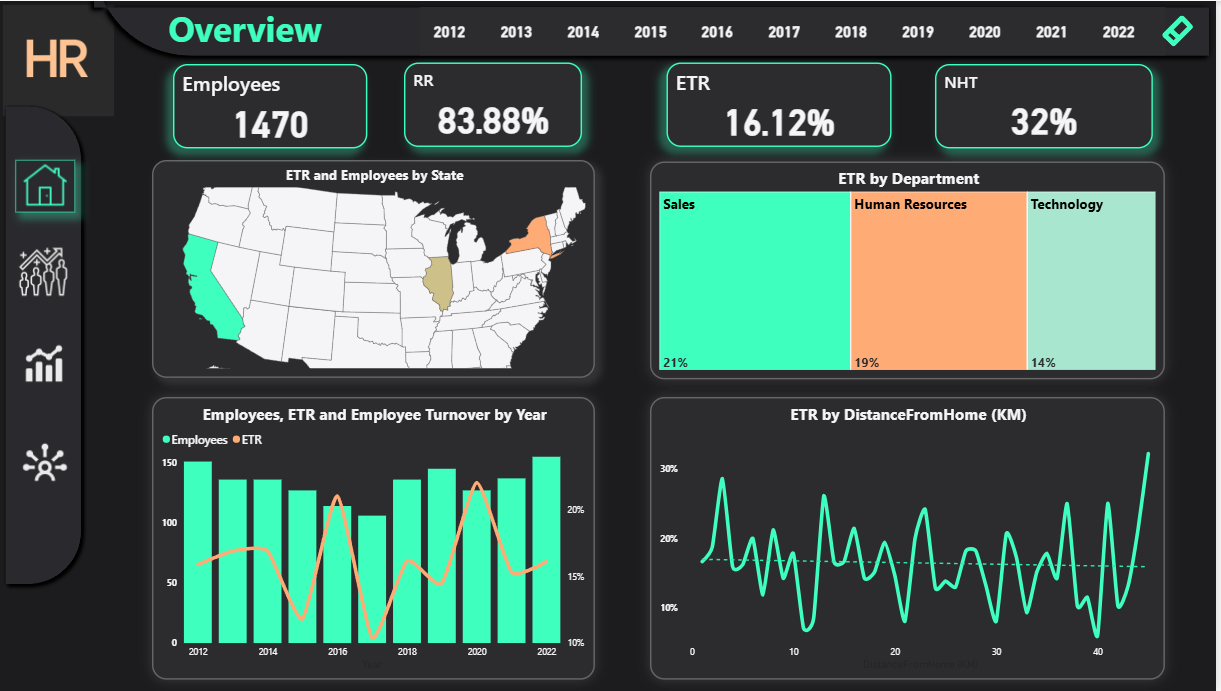

Layout of this report page (visuals, bound fields, positions):
{"tool":"powerbi","page":{"name":"Overview","canvas":[1690,960],"ordinal":0},"visuals":[{"type":"image","box":[0,0,165,165],"z":0},{"type":"lineStackedColumnComboChart","fields":{"Y":["Measure.Employees"],"Category":["DimDate.Date.Variation.Date Hierarchy.Year"],"Y2":["Measure.ERT"]},"box":[212.5,550,615,392.5],"z":1000},{"type":"shapeMap","fields":{"Category":["DimEmployee.State"],"Value":["Measure.ETR"]},"box":[212.5,220,615,302.5],"z":2000},{"type":"treemap","fields":{"Group":["DimEmployee.Department"],"Values":["Measure.ETR"]},"box":[905,222.5,715,302.5],"z":3000},{"type":"areaChart","fields":{"Category":["DimEmployee.DistanceFromHome (KM)"],"Y":["Measure.ETR"]},"box":[905,550,715,392.5],"z":4000},{"type":"card","title":"ETR","fields":{"Values":["Measure.ETR"]},"box":[927.5,85,312.5,117.5],"z":5000},{"type":"shape","box":[122.5,0,1567.5,85],"z":5500,"group":"g1"},{"type":"group","id":"g1","title":"Group 1","box":[122.5,0,1567.5,85],"z":6000},{"type":"textbox","box":[126.6,0,429.2,85],"z":6000,"group":"g1"},{"type":"shape","box":[0,137.5,123,681.5],"z":7000},{"type":"card","title":"NHT","fields":{"Values":["Measure.NHT"]},"box":[1300,87.5,302.5,117.5],"z":8000},{"type":"card","title":"Employees","fields":{"Values":["Measure.Employees"]},"box":[242.5,87.5,270,117.5],"z":9000},{"type":"card","title":"RR","fields":{"Values":["Measure.RR"]},"box":[562.5,85,247.5,117.5],"z":10000},{"type":"advancedSlicerVisual","fields":{"Values":["DimDate.Date.Variation.Date Hierarchy.Year"]},"box":[585,7.5,1035,67.5],"z":11000},{"type":"actionButton","box":[1602.5,17.5,70,50],"z":12000},{"type":"group","id":"g2","title":"Group 2","box":[22.9,220.9,82.5,72.5],"z":13000},{"type":"actionButton","box":[22.9,220.9,82.5,72.5],"z":13000,"group":"g2"},{"type":"image","box":[20.8,589.8,85.4,102.1],"z":14000},{"type":"image","box":[22.9,458.3,79.2,89.6],"z":15000},{"type":"image","box":[20.8,335.2,81.3,81.3],"z":16000}]}

Visuals, with their boxes in screenshot pixels (x1, y1, x2, y2), scaled from the page's 1690x960 canvas onto the 1221x691 screenshot:
image: (left=0, top=0, right=119, bottom=119)
lineStackedColumnComboChart - Measure.Employees x DimDate.Date.Variation.Date Hierarchy.Year: (left=154, top=396, right=598, bottom=678)
shapeMap - DimEmployee.State x Measure.ETR: (left=154, top=158, right=598, bottom=376)
treemap - DimEmployee.Department x Measure.ETR: (left=654, top=160, right=1170, bottom=378)
areaChart - DimEmployee.DistanceFromHome (KM) x Measure.ETR: (left=654, top=396, right=1170, bottom=678)
"ETR" card: (left=670, top=61, right=896, bottom=146)
shape: (left=89, top=0, right=1220, bottom=61)
"Group 1" group: (left=89, top=0, right=1220, bottom=61)
textbox: (left=91, top=0, right=402, bottom=61)
shape: (left=0, top=99, right=89, bottom=590)
"NHT" card: (left=939, top=63, right=1158, bottom=148)
"Employees" card: (left=175, top=63, right=370, bottom=148)
"RR" card: (left=406, top=61, right=585, bottom=146)
advancedSlicerVisual - DimDate.Date.Variation.Date Hierarchy.Year: (left=423, top=5, right=1170, bottom=54)
actionButton: (left=1158, top=13, right=1208, bottom=49)
"Group 2" group: (left=17, top=159, right=76, bottom=211)
actionButton: (left=17, top=159, right=76, bottom=211)
image: (left=15, top=425, right=77, bottom=498)
image: (left=17, top=330, right=74, bottom=394)
image: (left=15, top=241, right=74, bottom=300)
